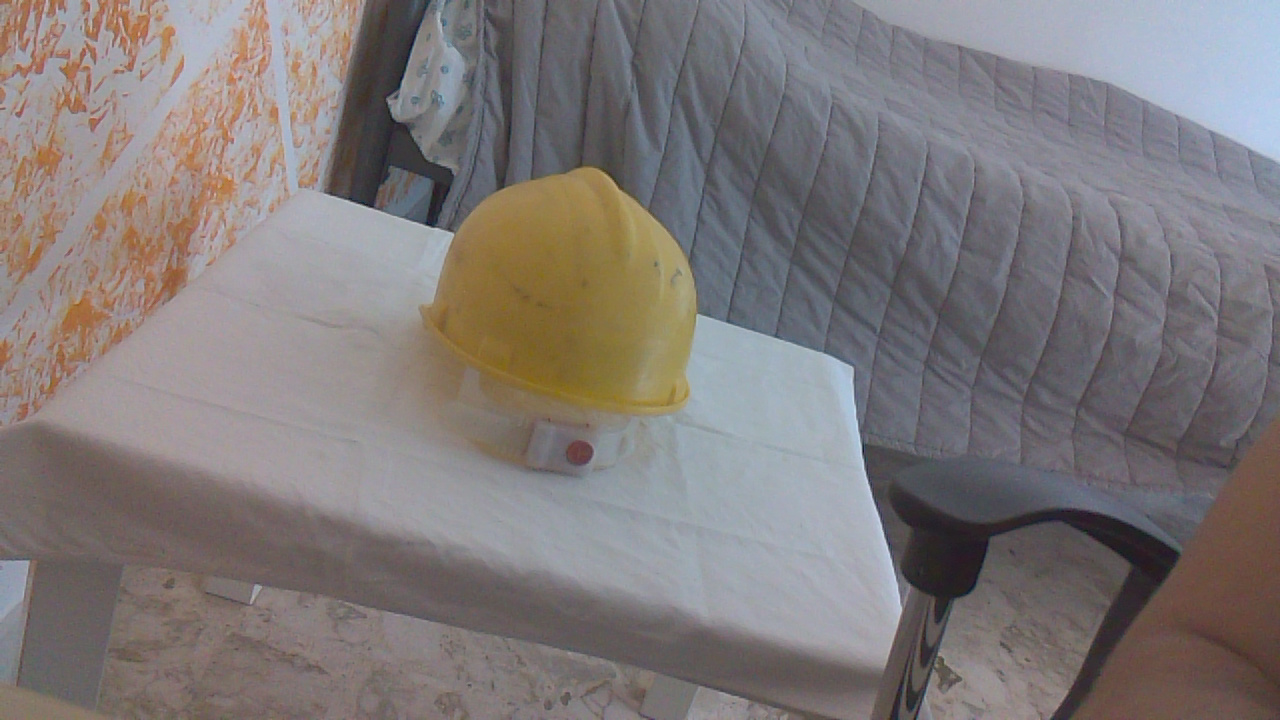Helmet: (423, 158, 711, 485)
